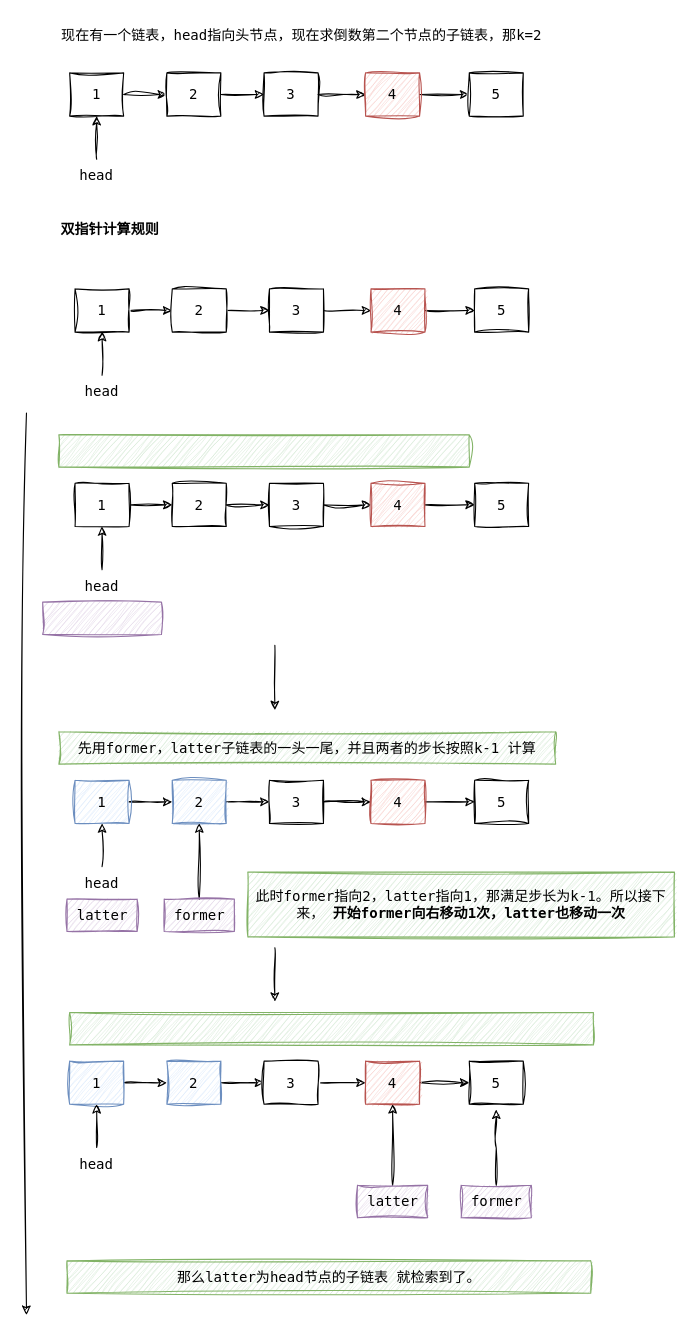
The diagram is 693 pixels wide and 1342 high, and some of its shapes have lost their labels. Here are the shapes that lost their labels. From the top down, the centre of each, then its label:
(263,450): 定义两个指针 latter，former，分别都指向head节点
(101,617): latter、former
(331,1028): 当former向右移动，如果该节点的右节点为空，则表示已达到满足条件的情况
